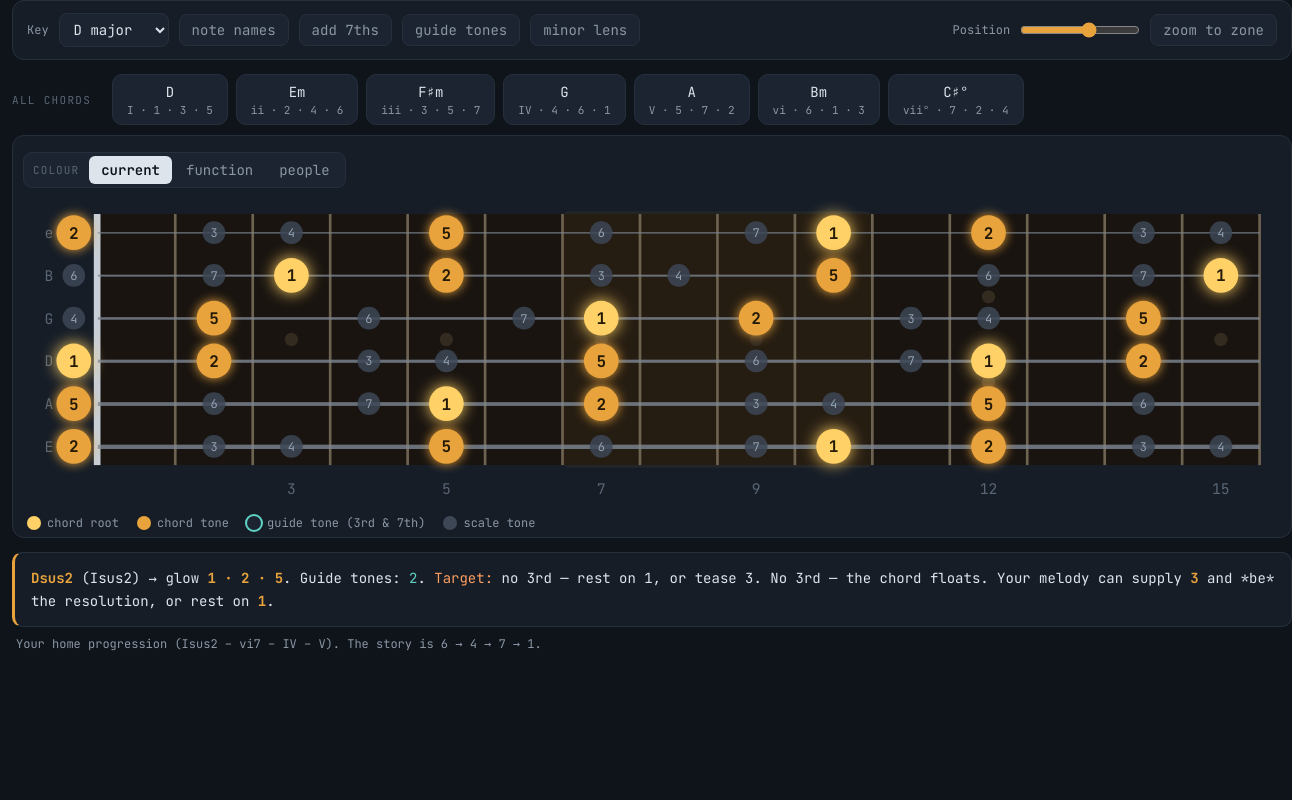
Test: <DegreeLens /> › the minor lens relabels degrees without moving the map (6 -> 1)
Click the button "minor lens": (585,30) [530, 14, 640, 46]
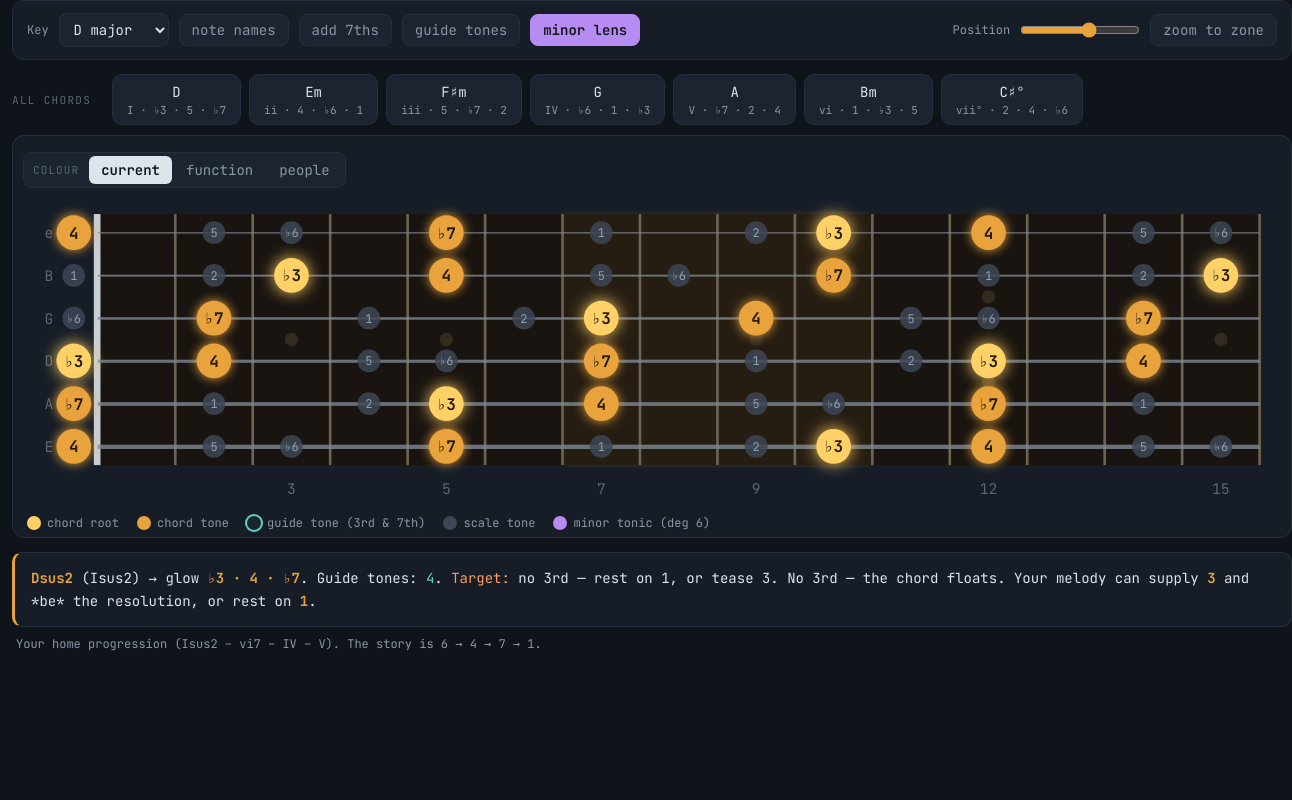
// Under the minor lens, the vi chip (Bm in D) should read its tonic as "1".
Click the button "Bm vi · 1 · ♭3 · 5": (868,100) [804, 74, 933, 125]
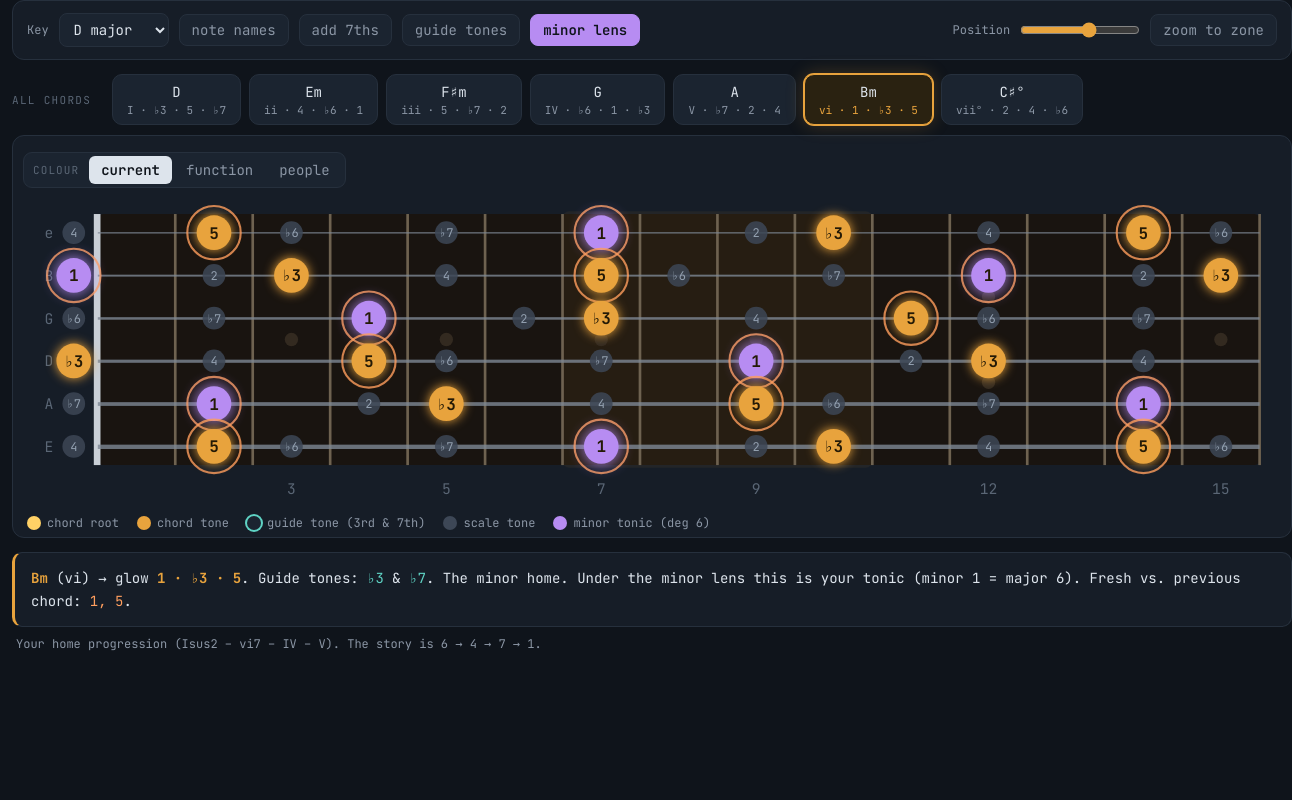
Expected: the element with class "dl-info" shows "glow 1 · ♭3 · 5", [12, 552, 1291, 627]
